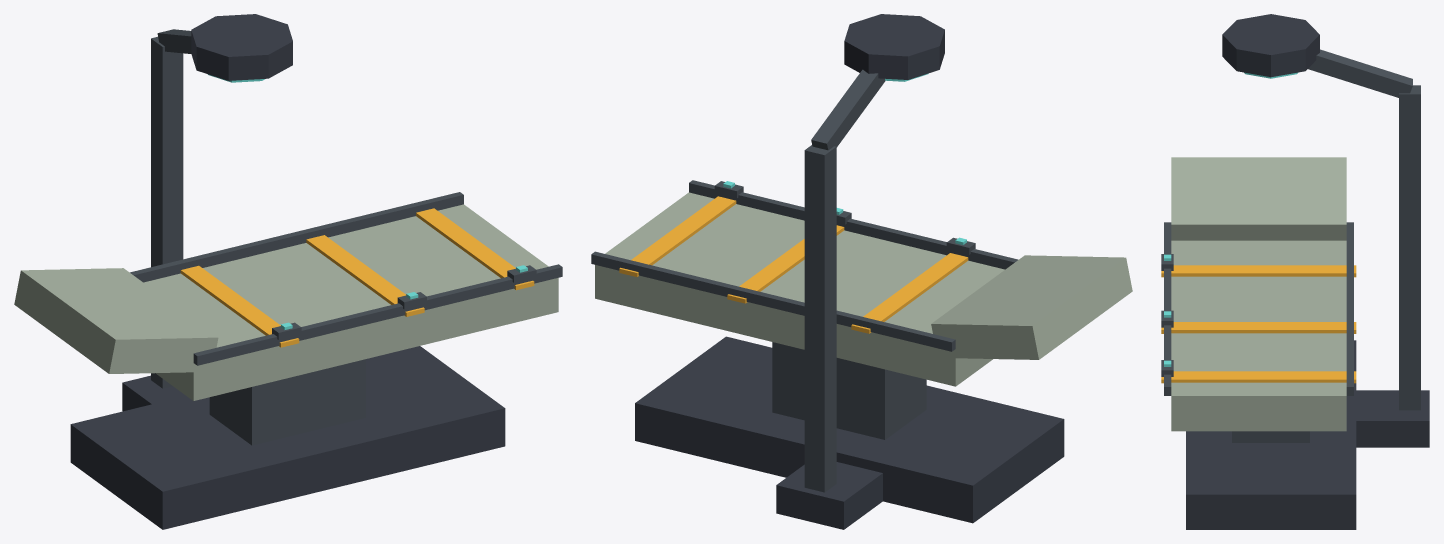
The model's file is GV_ShipCouch_01.glb.
3 views of the same model, side by side, from view 1: azimuth 30°, elevation 25°; view 2: azimuth 150°, elevation 25°; view 3: azimuth 270°, elevation 25° (orthographic). The views are drawn at different scales.
Visible parts, largest first — view 1: GV_ShipCouch_01; view 2: GV_ShipCouch_01; view 3: GV_ShipCouch_01.
Boxes of the visible parts, bbox=[...] form: GV_ShipCouch_01: bbox=[14, 14, 562, 529]; GV_ShipCouch_01: bbox=[591, 14, 1132, 529]; GV_ShipCouch_01: bbox=[1161, 14, 1429, 529].
Bounding box in the file's own units: 1.97 × 1.8 × 1.1.
Materials: 1 (1 with a texture image).
